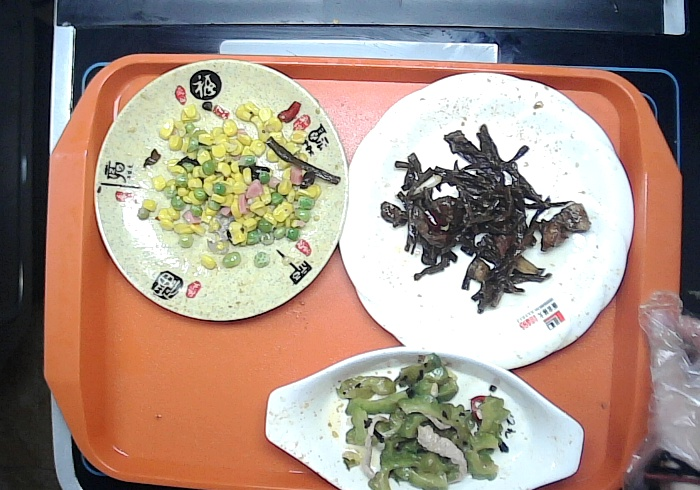NLDX-Bai_Zhe_Yuan_Pan: (327, 69, 643, 382)
NLDX-Fu_Zi_Yuan_Pan: (83, 54, 353, 332)
NLDX-Yu_Pan: (258, 338, 586, 490)
